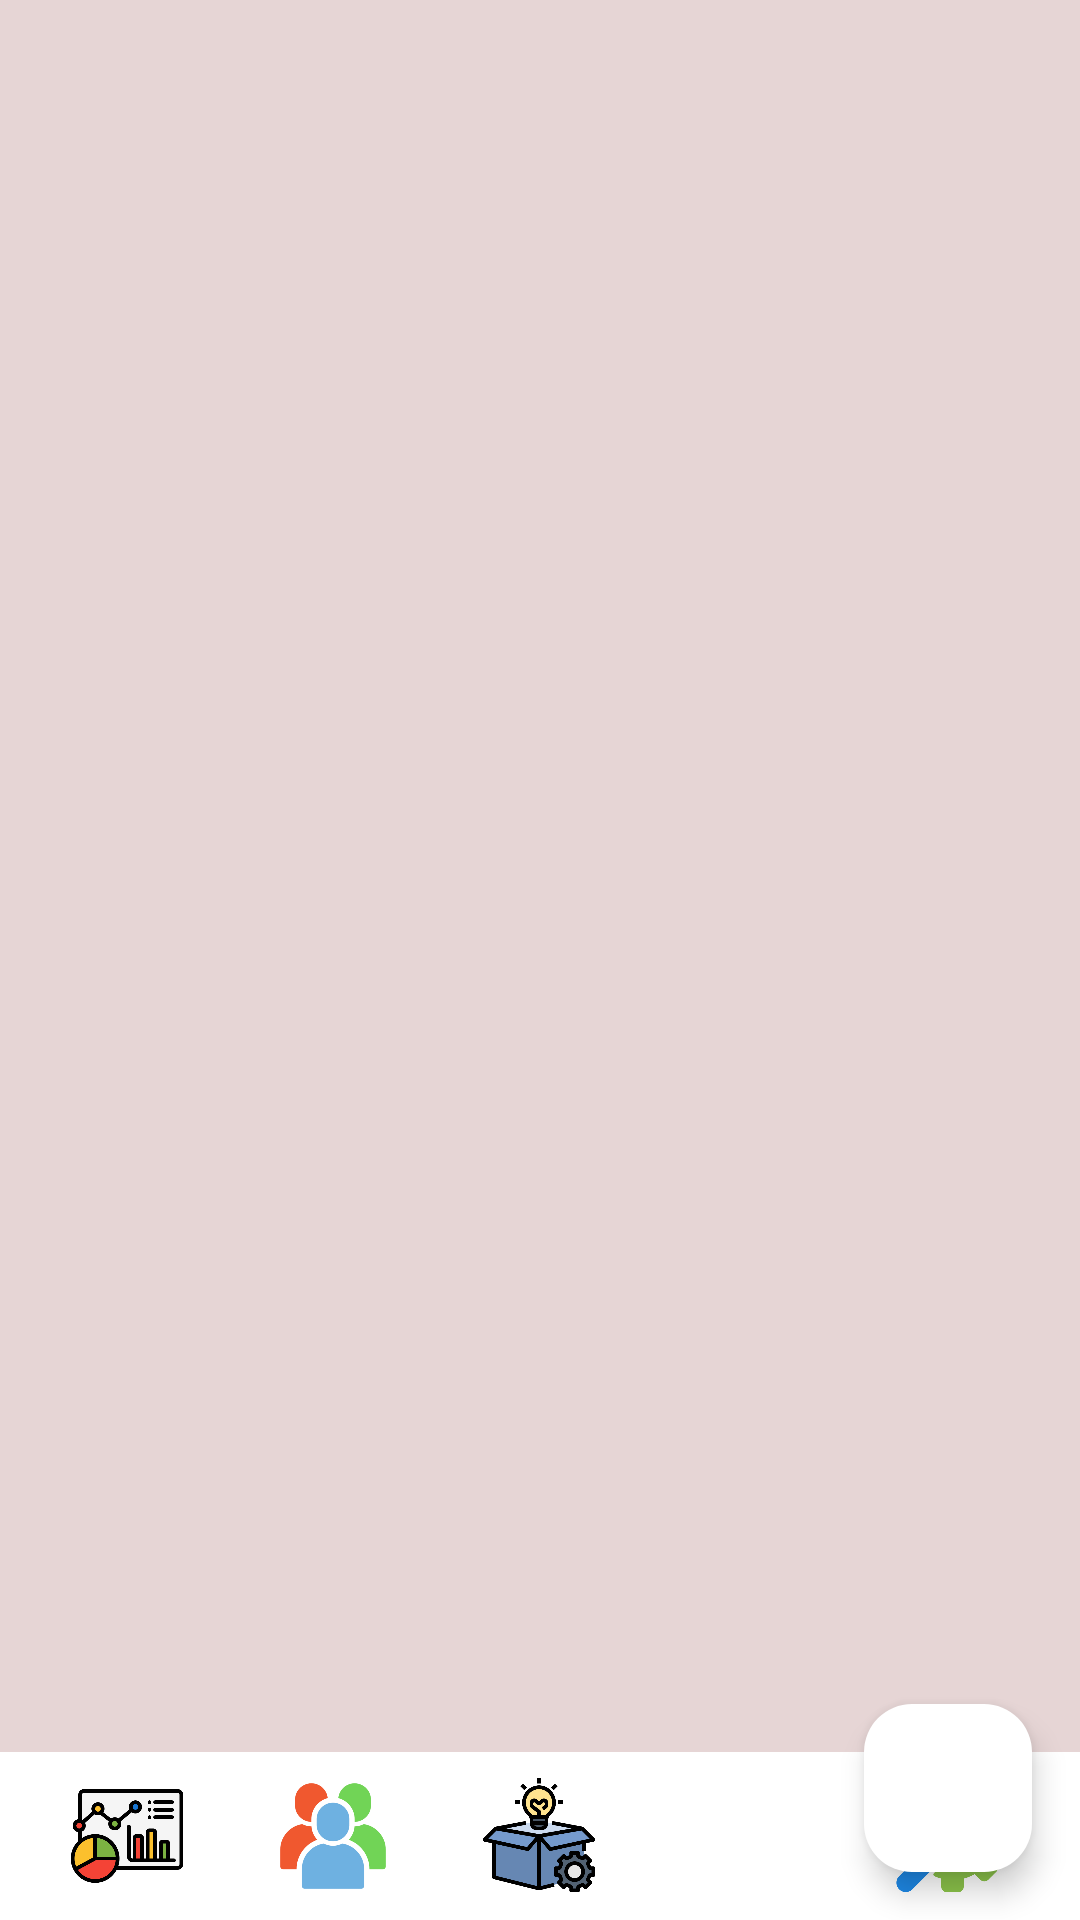

Icon bounding boxes for this 1080px×1920px phone screenshot, format (x1, y1, x2, y2):
dashboard: (71, 1789, 183, 1883)
product: (483, 1778, 595, 1892)
users: (280, 1783, 386, 1889)
